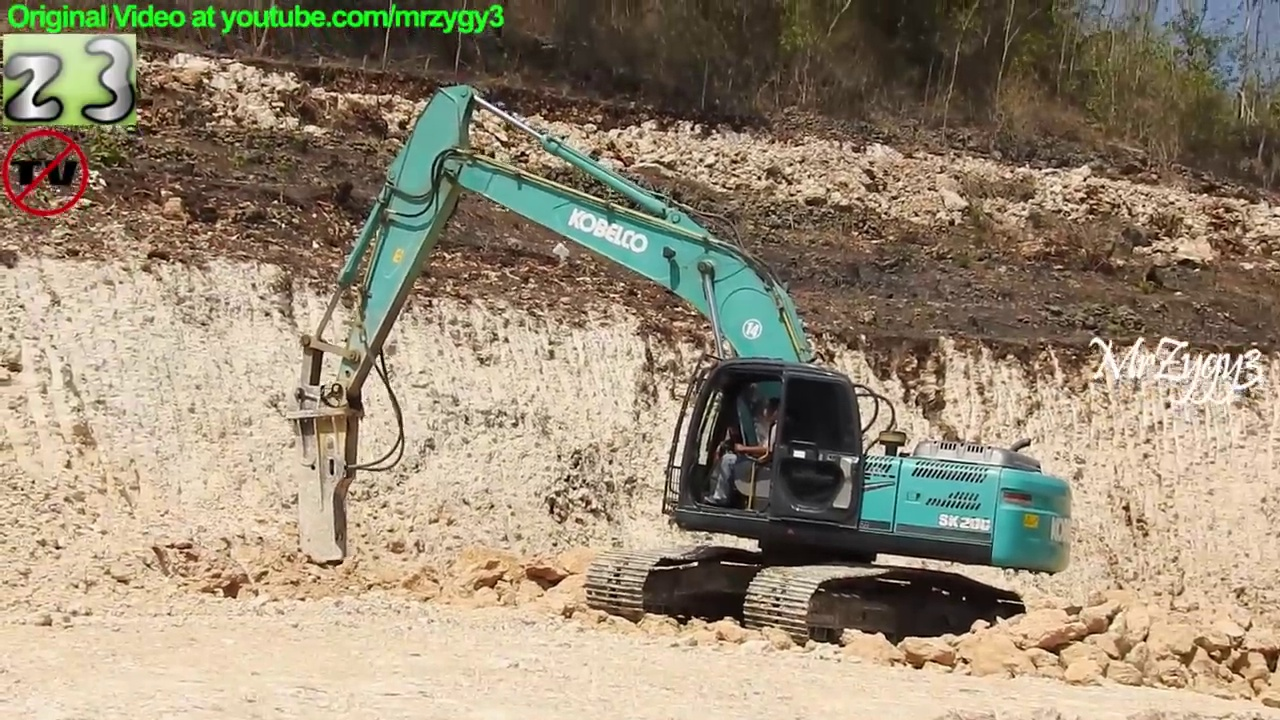excavator breaker: (278, 78, 1081, 659)
